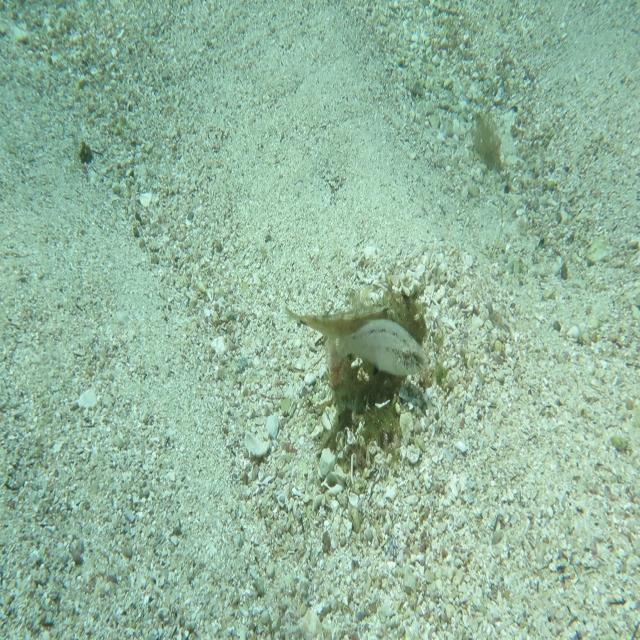ROLL: (290, 296, 404, 345)
female: (327, 313, 435, 382)
nest: (314, 260, 449, 479)
